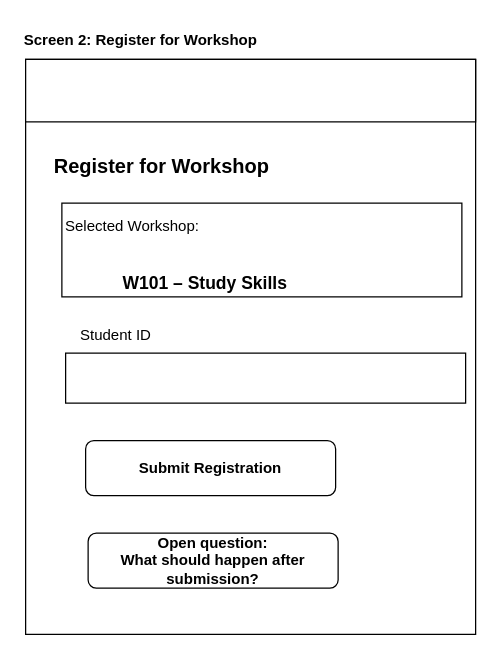
Image size: 504x656. Some labels were removed from this diagram. The shapes that lost their labels are listed below. From the top down, each one's box as (x1, y1, x2, y2) in pixels, then its label:
(24, 58, 476, 122): College Workshop Registration
(64, 352, 466, 403): Enter Student ID
